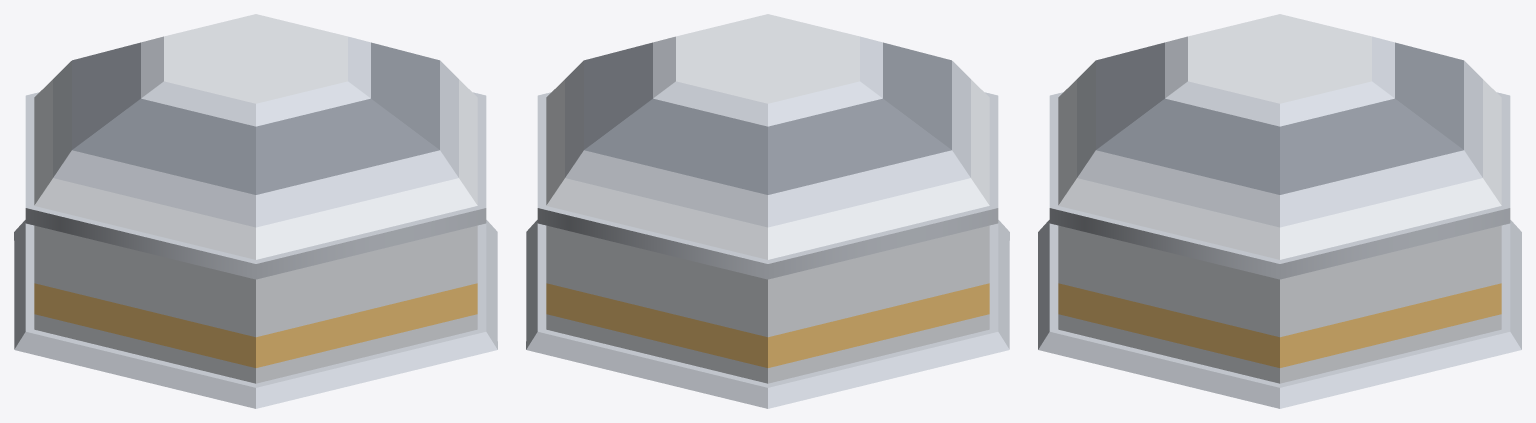
The model's file is hangar.glb.
3 views of the same model, side by side, from view 1: azimuth 30°, elevation 25°; view 2: azimuth 150°, elevation 25°; view 3: azimuth 270°, elevation 25° (orthographic).
Parts seen in each view (by area): view 1: hangar_roundA; view 2: hangar_roundA; view 3: hangar_roundA.
Boxes of the visible parts, x1,y1,x2,y2 form: hangar_roundA: (14,14,497,408); hangar_roundA: (526,14,1009,408); hangar_roundA: (1038,14,1521,408).
Size of the model in its own units: 2.6 by 1.19 by 2.25.
